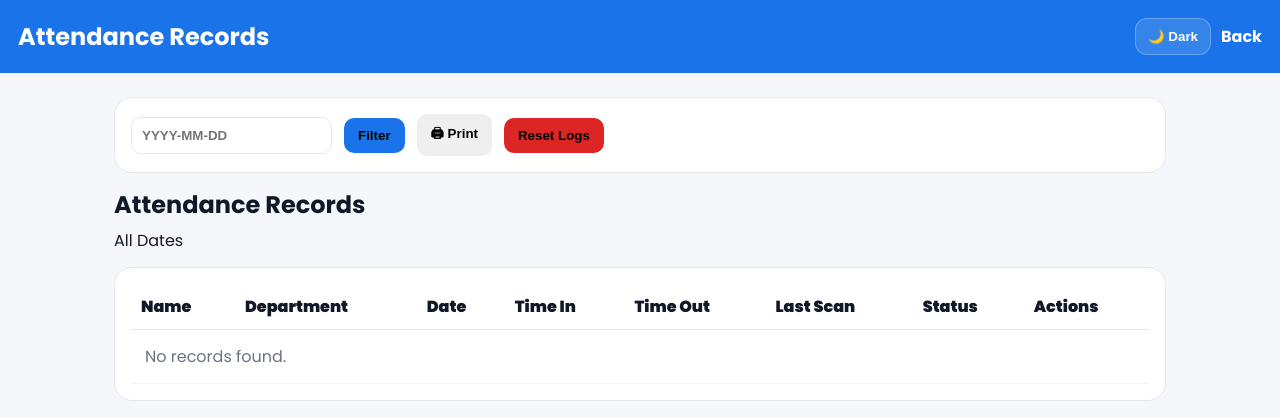
Scenario: filters by date and shows summary
The image size is (1280, 418).
Expected: the text "No records found." is shown, [131, 330, 1149, 384]
Type "2026-02-10" into the field with placeholder "YYYY-MM-DD".
click(232, 135); type("2026-02-10")  # box [131, 116, 332, 154]
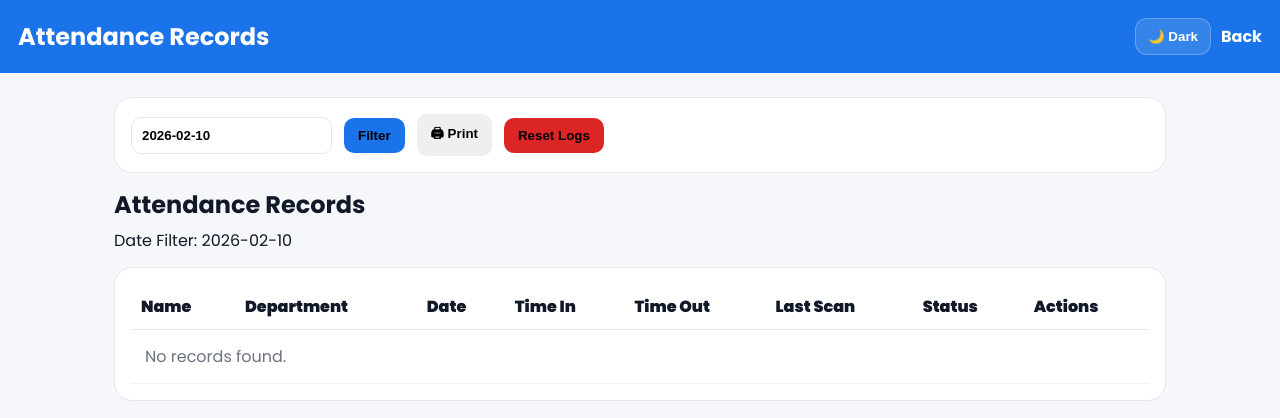
Click the button "Filter".
click(374, 135)  # box [344, 118, 405, 152]
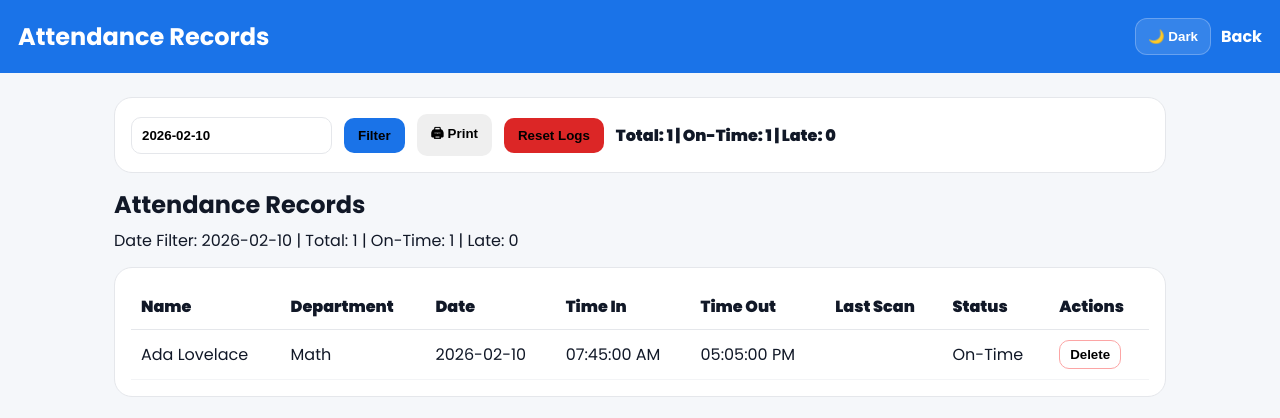
Expected: the text "Ada Lovelace" is shown, [131, 330, 281, 380]
Expected: the text "Total: 1 | On-Time: 1 | Late: 0" is shown, [616, 122, 836, 148]
